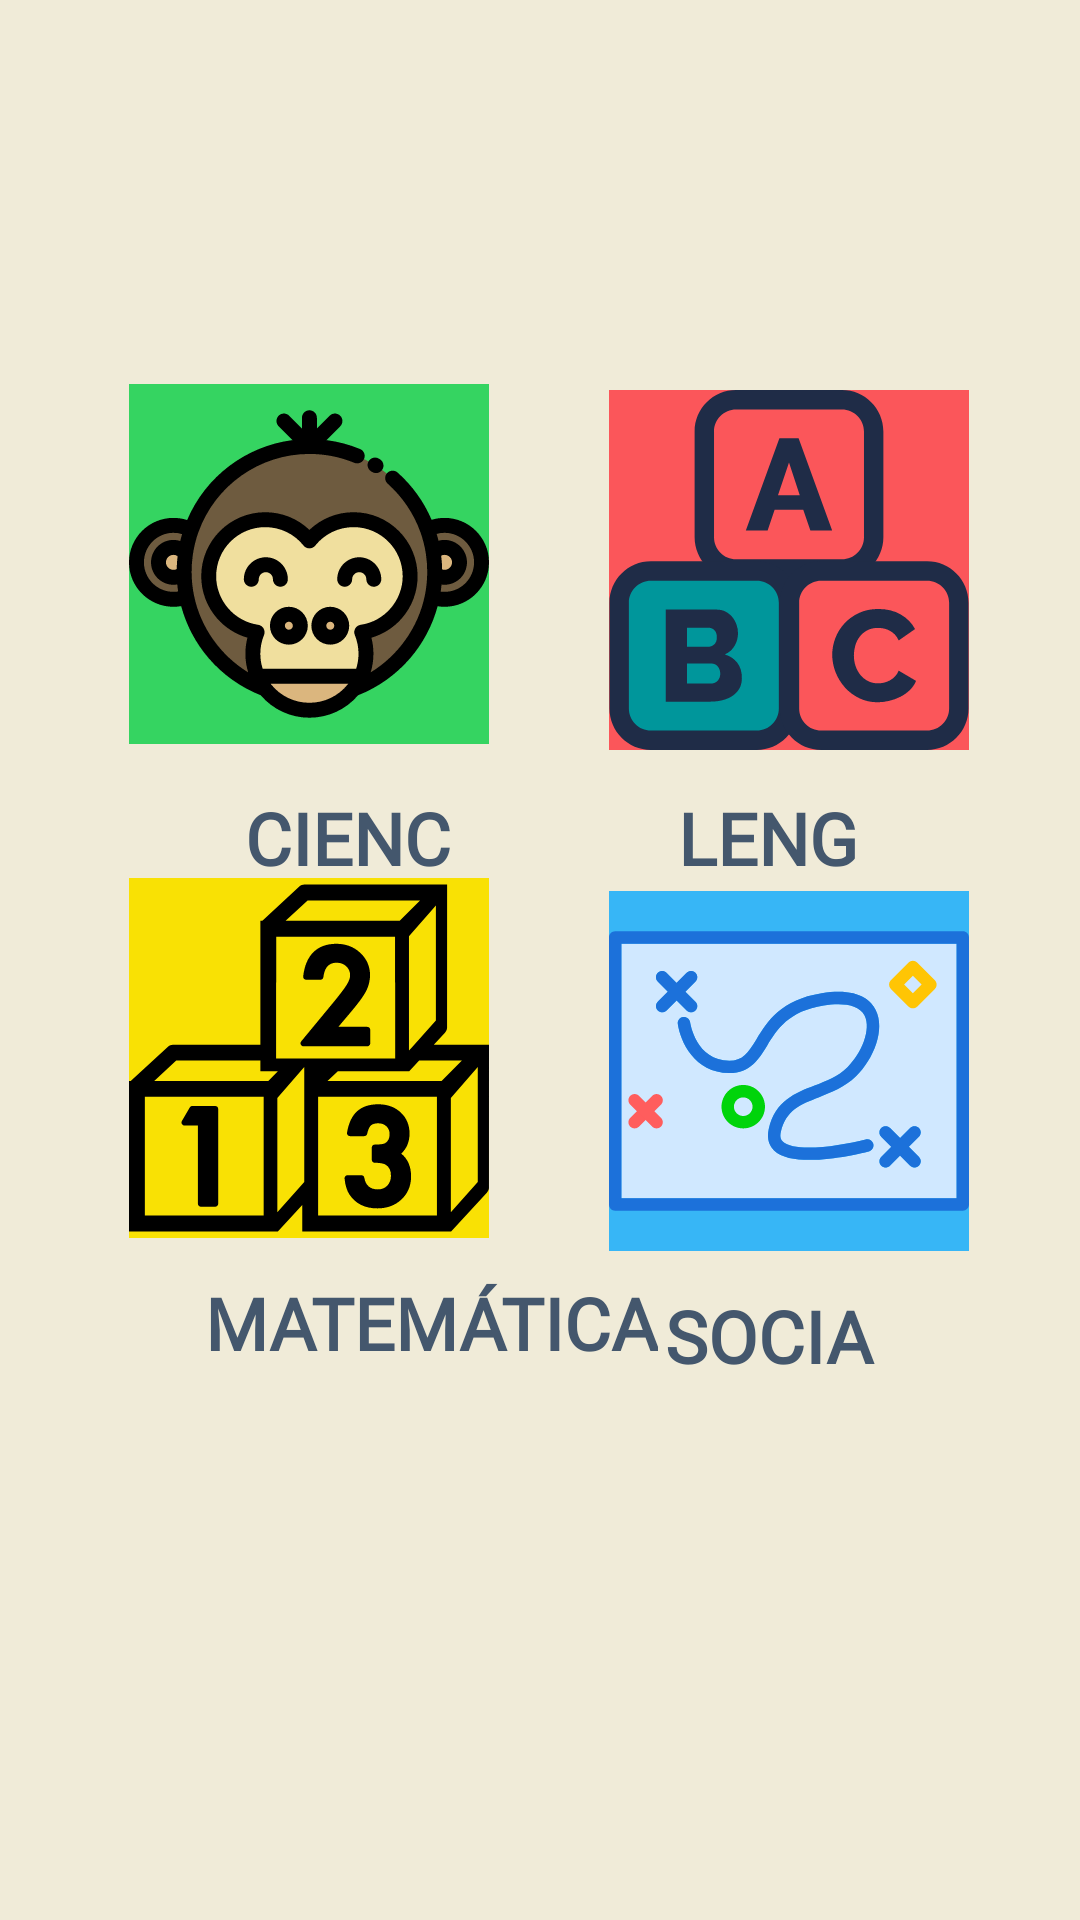

Icon bounding boxes for this 1080*1920 phone screenshot, format (x1, y1, x2, y2):
letters: (609, 390, 969, 750)
map maps and location: (609, 891, 969, 1251)
monkey: (129, 384, 489, 744)
number blocks toys: (129, 878, 489, 1238)
